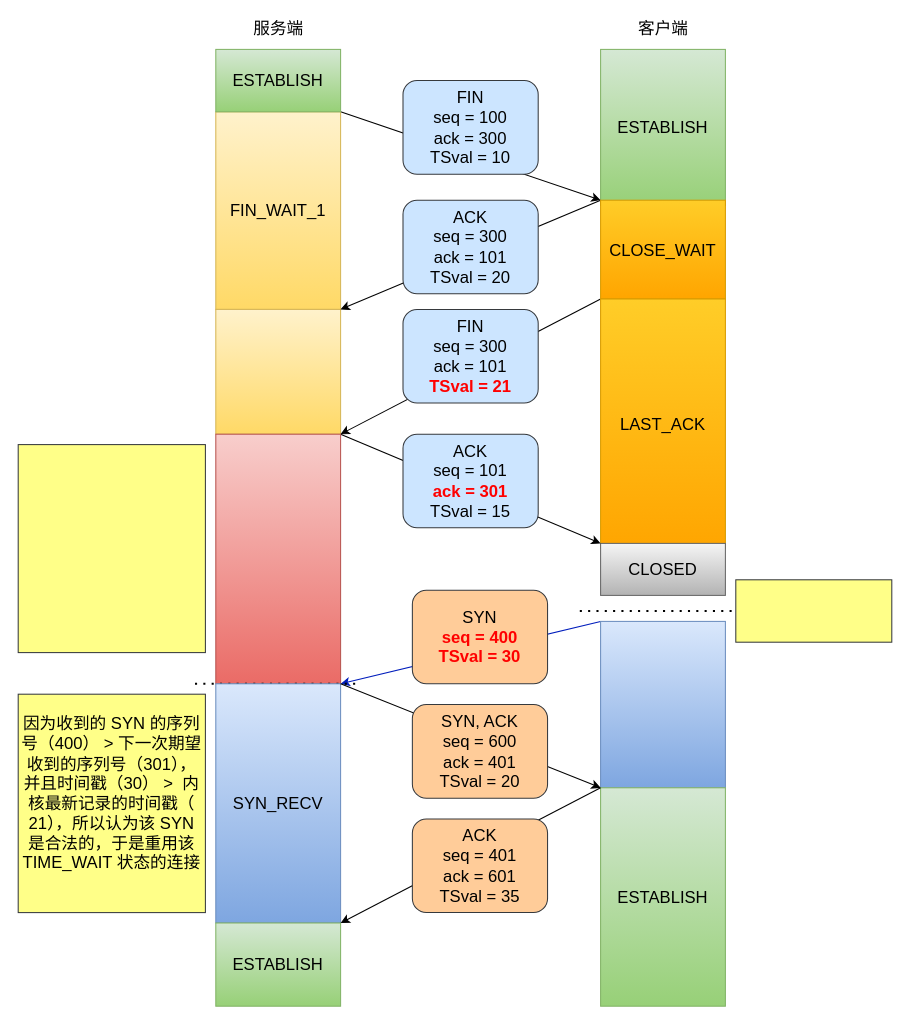
Image size: 910x1024. Some labels were removed from this diagram. The shapes that lost their labels are listed below. From the top down, each one's centre as x and y in pixels, then its label:
At (x=278, y=371): "FIN_WAIT_2".
At (x=111, y=548): "收到FIN报文后，内核会记录该 FIN 的时间戳（本次例子为 21）和计算下一个期望收到的序列号（本次例子为301）".
At (x=278, y=558): "TIME_WAIT".
At (x=813, y=610): "客户端快速发起了相同四元组的 SYN 包".
At (x=662, y=704): "SYN_SENT".
